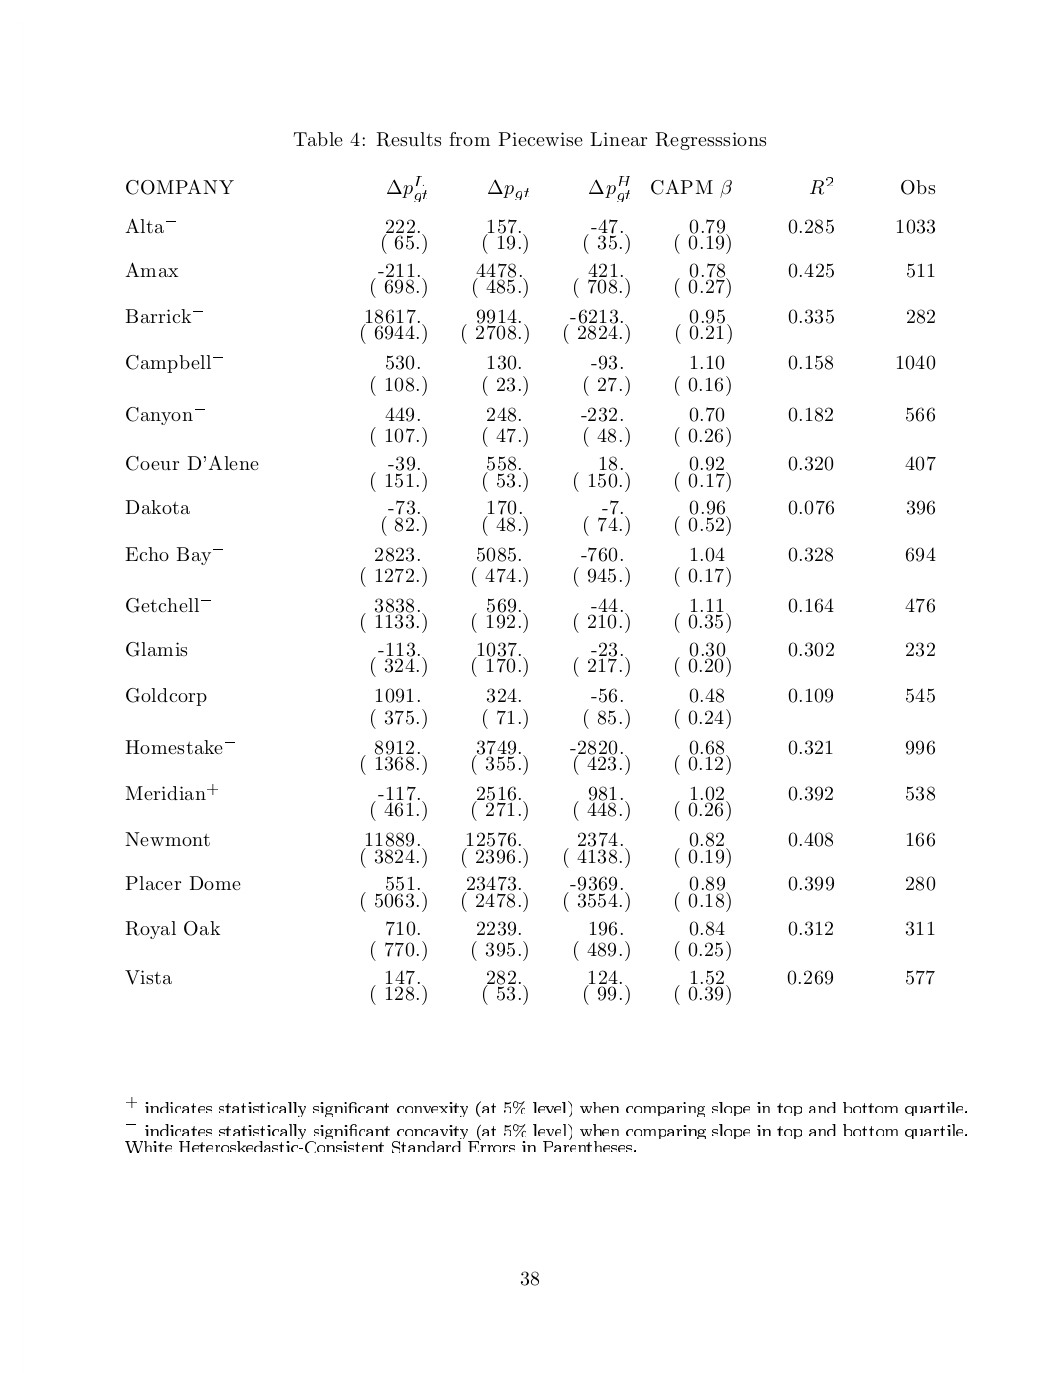Table: (125, 176, 935, 1004)
